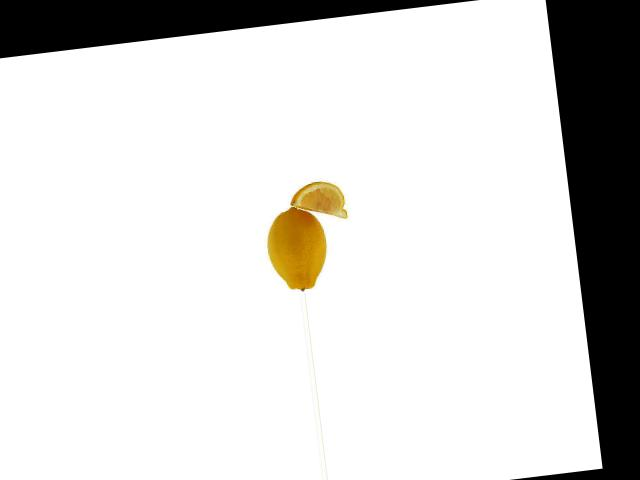lemon: (260, 199, 335, 296)
